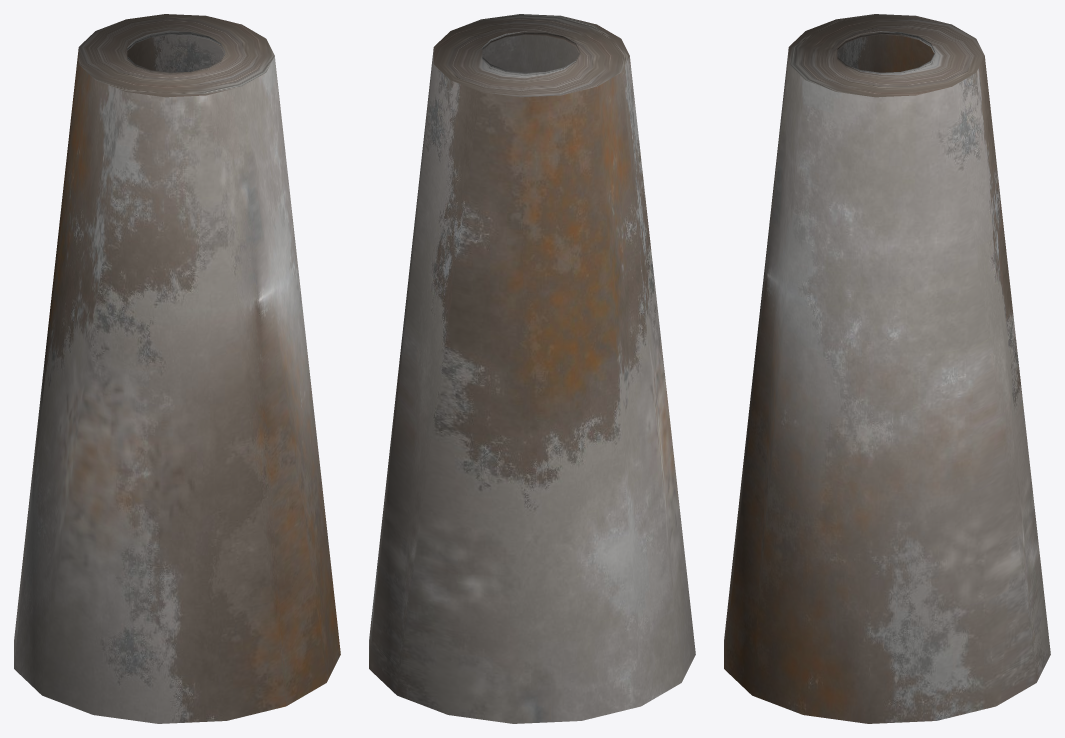
The model's file is smokemonster_staticbase.fbx.
The picture shows the model from 3 angles, left to right: view 1: azimuth 30°, elevation 25°; view 2: azimuth 150°, elevation 25°; view 3: azimuth 270°, elevation 25°; orthographic projection.
Visible parts, largest first — view 1: Circle; view 2: Circle; view 3: Circle.
Boxes of the visible parts, x1,y1,x2,y2 form: Circle: [14, 14, 340, 723]; Circle: [369, 14, 695, 723]; Circle: [724, 14, 1050, 723].
Size of the model in its own units: 9.95 by 20.13 by 9.89.
Materials: 1 (1 with a texture image).
